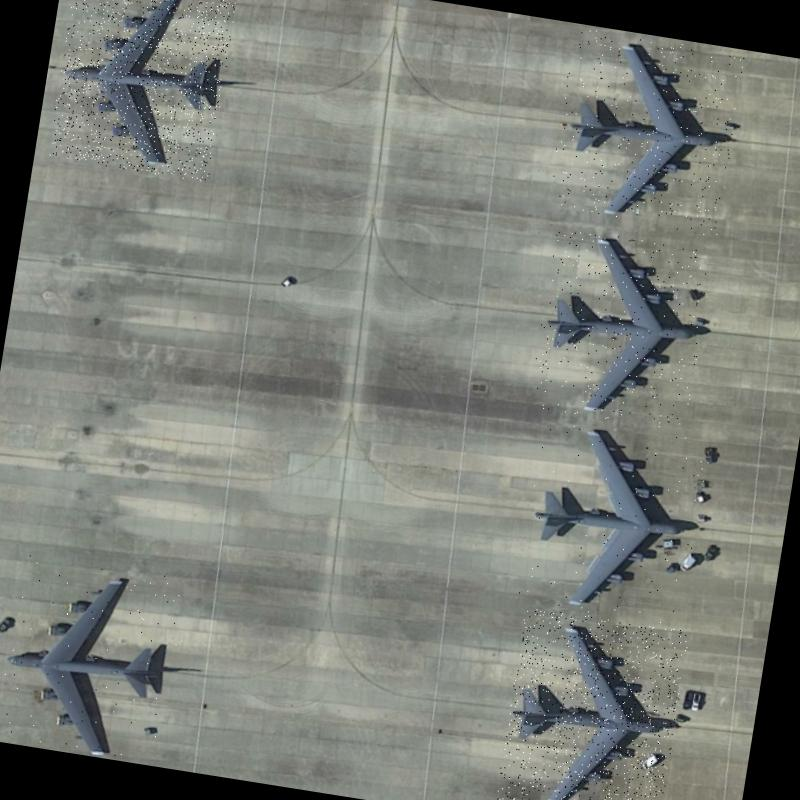A8: (511, 414, 712, 628), (546, 26, 746, 237), (0, 551, 187, 765), (528, 226, 714, 432), (494, 605, 689, 800), (46, 0, 237, 182)
